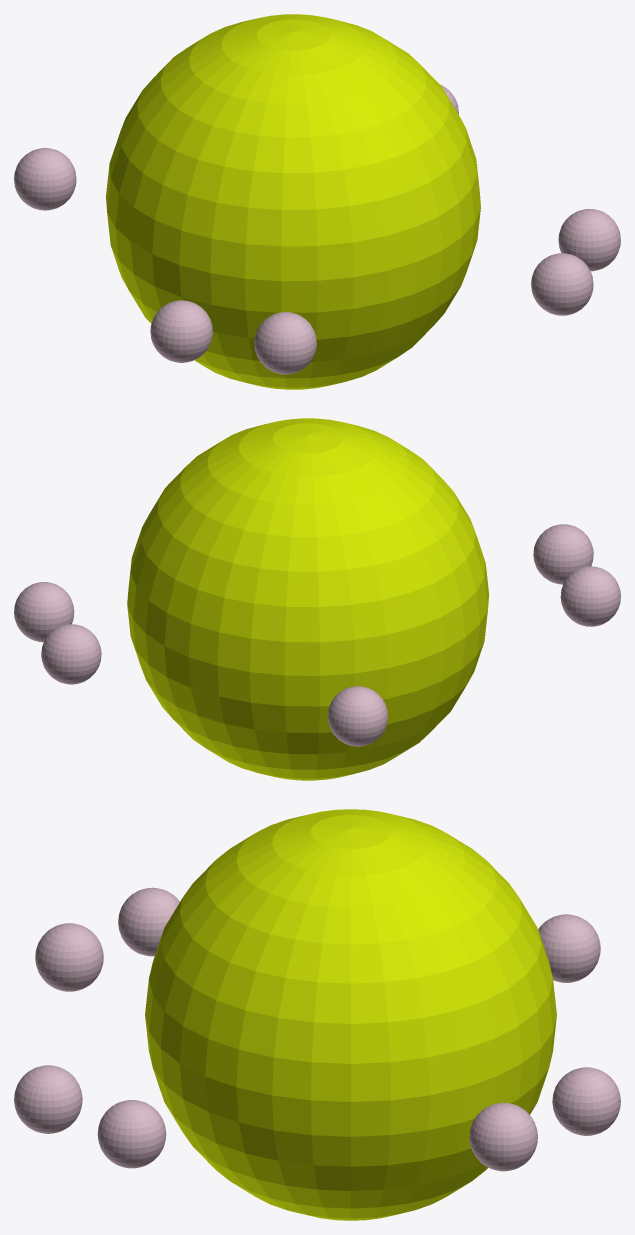
The picture shows the model from 3 angles, top to bottom: view 1: azimuth 30°, elevation 25°; view 2: azimuth 150°, elevation 25°; view 3: azimuth 270°, elevation 25°; orthographic projection. The views are drawn at different scales.
Parts seen in each view (by area): view 1: Sphere.013, Sphere.006; view 2: Sphere.013, Sphere.006; view 3: Sphere.013, Sphere.006.
Part boxes in pixels (x1=…): Sphere.013: x1=106, y1=14, x2=480, y2=389; Sphere.006: x1=14, y1=84, x2=620, y2=374; Sphere.013: x1=127, y1=418, x2=488, y2=780; Sphere.006: x1=14, y1=524, x2=620, y2=746; Sphere.013: x1=145, y1=809, x2=556, y2=1220; Sphere.006: x1=14, y1=887, x2=620, y2=1171.
Size of the model in its own units: 339 by 240 by 354.
